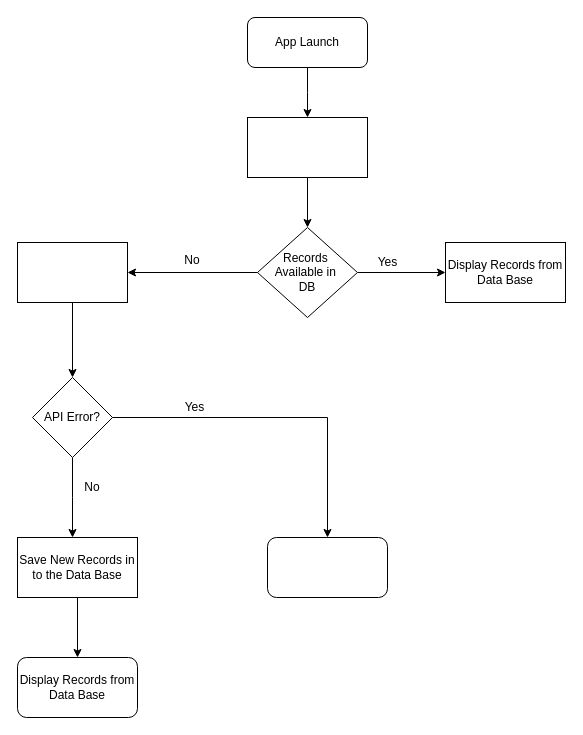
Image size: 583x735. Some labels were removed from this diagram. Each missing label, with the centre of its shape:
"Checks For Records in Data Base" belongs at point 307,147.
"Network Call to Fetch Records" belongs at point 72,272.
"Show Error" belongs at point 327,567.
